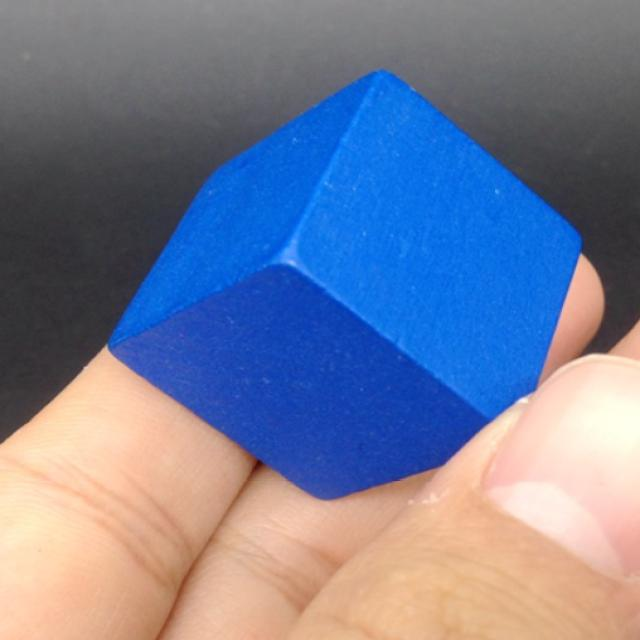bluecube: (103, 65, 586, 504)
